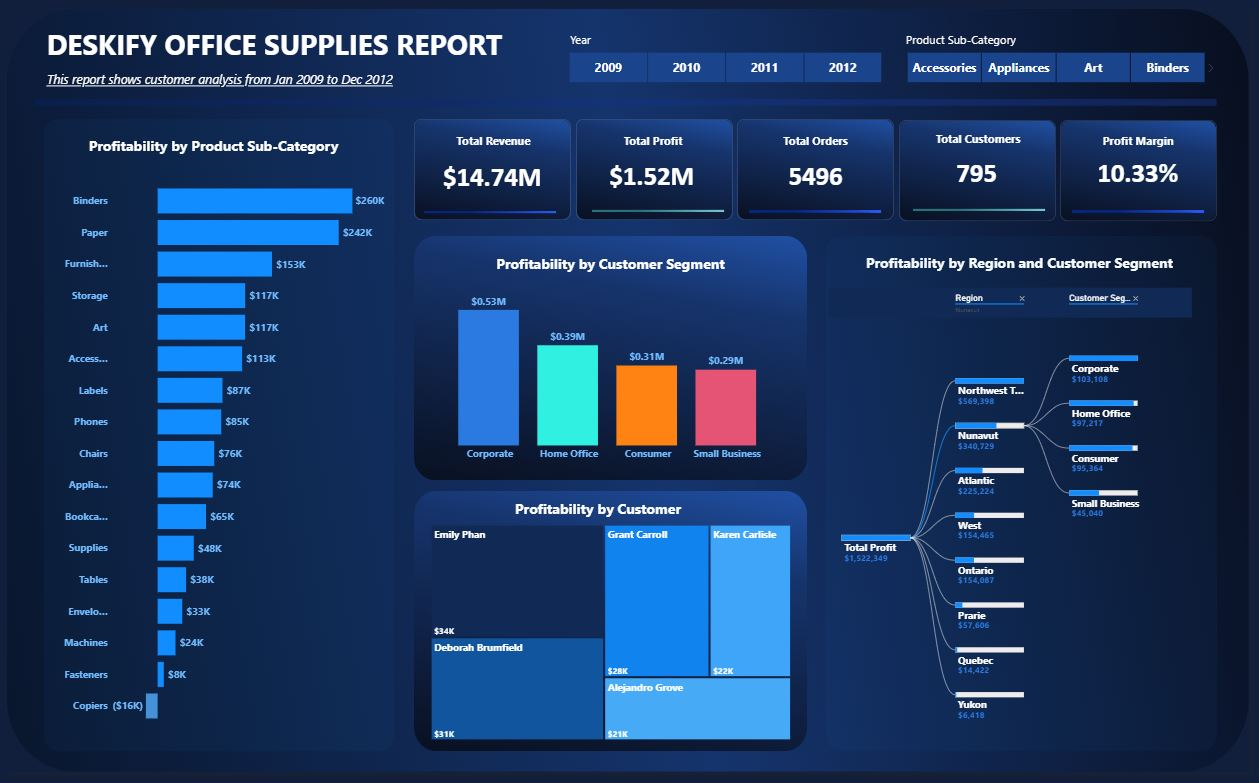

What the dashboard file says about the page in this screenshot:
{"tool":"powerbi","page":{"name":"Customer Analysis","canvas":[2500,1500],"ordinal":1},"visuals":[{"type":"image","box":[96.9,26.6,2359.4,1449.5],"z":0},{"type":"image","box":[869.5,235.1,298.3,191.9],"z":1000},{"type":"image","box":[1177.3,235.1,298.3,191.9],"z":2000},{"type":"image","box":[1483.1,235.1,298.3,191.9],"z":3000},{"type":"image","box":[1791.4,237.5,298.3,191.9],"z":4000},{"type":"image","box":[2097.2,237.5,298.3,191.9],"z":5000},{"type":"image","box":[870.1,457.8,746.6,463.5],"z":7000},{"type":"shape","box":[167.2,235.6,664.9,1200.6],"z":9000},{"type":"textbox","box":[913.8,256.5,214.7,47.5],"z":11000},{"type":"textbox","box":[1263.3,256.5,294.5,47.5],"z":12000},{"type":"textbox","box":[1523.6,256.5,218.5,100.7],"z":13000},{"type":"textbox","box":[1856,252.7,191.9,55.1],"z":14000},{"type":"textbox","box":[2173.3,256.5,321,100.7],"z":15000},{"type":"textbox","box":[167.2,51.3,930.9,87.4],"z":16000},{"type":"textbox","box":[167.2,138.7,930.9,117.8],"z":17000},{"type":"card","fields":{"Values":["Calculated Measures.Total Revenue"]},"box":[908.1,292.6,220.4,98.8],"z":18000},{"type":"card","fields":{"Values":["Calculated Measures.Total Profit"]},"box":[1212,300.2,218.5,77.9],"z":19000},{"type":"card","fields":{"Values":["Calculated Measures.Total Orders"]},"box":[1523.6,281.2,218.5,115.9],"z":20000},{"type":"card","fields":{"Values":["Calculated Measures.Total Customers"]},"box":[1829.4,292.6,218.5,81.7],"z":21000},{"type":"card","fields":{"Values":["Calculated Measures.Profit Margin"]},"box":[2135.3,235.6,218.5,197.6],"z":22000},{"type":"textbox","box":[980.2,486.3,526.2,64.6],"z":28000},{"type":"textbox","box":[1689.4,484.6,663,81.5],"z":29000},{"type":"textbox","box":[224.2,262.2,530,134.9],"z":30000},{"type":"image","box":[870.1,942.2,746.6,493.9],"z":32500},{"type":"textbox","box":[946,951.7,547.1,102.6],"z":32750},{"type":"slicer","fields":{"Values":["CalendarDim.Year"]},"box":[1139.8,102.6,642.1,70.3],"z":33000},{"type":"textbox","box":[1063.8,64.6,245.1,38],"z":34000},{"type":"textbox","box":[1757.2,64.6,304,38],"z":35000},{"type":"slicer","fields":{"Values":["ProductDim.Product Sub-Category"]},"box":[1781.9,102.6,613.6,70.3],"z":36000},{"type":"image","box":[889.1,406.5,250.8,12],"z":37000},{"type":"image","box":[1208.2,376.1,250.8,68.4],"z":38000},{"type":"image","box":[1506.5,404.6,250.8,13.3],"z":39000},{"type":"image","box":[1818,374.2,250.8,68.4],"z":40000},{"type":"image","box":[2120.1,404.6,250.8,13.3],"z":41000},{"type":"image","box":[148.2,197.6,2247.3,13.3],"z":42000},{"type":"treemap","fields":{"Group":["CustomerDim.Customer Name"],"Values":["Calculated Measures.Total Profit"]},"box":[898.6,1003,691.5,416],"z":42001},{"type":"clusteredColumnChart","fields":{"Category":["CustomerDim.Customer Segment"],"Y":["Calculated Measures.Total Profit"]},"box":[889.1,550.9,701,343.8],"z":42002},{"type":"clusteredBarChart","fields":{"Y":["Calculated Measures.Total Profit"],"Category":["ProductDim.Product Sub-Category"]},"box":[188.1,330.5,630.7,1073.3],"z":42003},{"type":"shape","box":[1652.7,457.8,742.8,978.3],"z":42004},{"type":"decompositionTreeVisual","fields":{"Analyze":["Calculated Measures.Total Profit"],"ExplainBy":["LocationDim.Region","CustomerDim.Customer Segment"]},"box":[1652,550.7,700.4,949.3],"z":42005}]}

Visuals, with their boxes on the page's 2500x1500 design canvas (x1, y1, x2, y2). These are canvas units, not pixel positions in the 1259x783 screenshot, which may show the page scaled, cropped or inside an application window:
image: <bbox>97, 27, 2456, 1476</bbox>
image: <bbox>870, 235, 1168, 427</bbox>
image: <bbox>1177, 235, 1476, 427</bbox>
image: <bbox>1483, 235, 1781, 427</bbox>
image: <bbox>1791, 238, 2090, 429</bbox>
image: <bbox>2097, 238, 2396, 429</bbox>
image: <bbox>870, 458, 1617, 921</bbox>
shape: <bbox>167, 236, 832, 1436</bbox>
textbox: <bbox>914, 256, 1128, 304</bbox>
textbox: <bbox>1263, 256, 1558, 304</bbox>
textbox: <bbox>1524, 256, 1742, 357</bbox>
textbox: <bbox>1856, 253, 2048, 308</bbox>
textbox: <bbox>2173, 256, 2494, 357</bbox>
textbox: <bbox>167, 51, 1098, 139</bbox>
textbox: <bbox>167, 139, 1098, 256</bbox>
card - Calculated Measures.Total Revenue: <bbox>908, 293, 1128, 391</bbox>
card - Calculated Measures.Total Profit: <bbox>1212, 300, 1430, 378</bbox>
card - Calculated Measures.Total Orders: <bbox>1524, 281, 1742, 397</bbox>
card - Calculated Measures.Total Customers: <bbox>1829, 293, 2048, 374</bbox>
card - Calculated Measures.Profit Margin: <bbox>2135, 236, 2354, 433</bbox>
textbox: <bbox>980, 486, 1506, 551</bbox>
textbox: <bbox>1689, 485, 2352, 566</bbox>
textbox: <bbox>224, 262, 754, 397</bbox>
image: <bbox>870, 942, 1617, 1436</bbox>
textbox: <bbox>946, 952, 1493, 1054</bbox>
slicer - CalendarDim.Year: <bbox>1140, 103, 1782, 173</bbox>
textbox: <bbox>1064, 65, 1309, 103</bbox>
textbox: <bbox>1757, 65, 2061, 103</bbox>
slicer - ProductDim.Product Sub-Category: <bbox>1782, 103, 2396, 173</bbox>
image: <bbox>889, 406, 1140, 418</bbox>
image: <bbox>1208, 376, 1459, 444</bbox>
image: <bbox>1506, 405, 1757, 418</bbox>
image: <bbox>1818, 374, 2069, 443</bbox>
image: <bbox>2120, 405, 2371, 418</bbox>
image: <bbox>148, 198, 2396, 211</bbox>
treemap - CustomerDim.Customer Name x Calculated Measures.Total Profit: <bbox>899, 1003, 1590, 1419</bbox>
clusteredColumnChart - CustomerDim.Customer Segment x Calculated Measures.Total Profit: <bbox>889, 551, 1590, 895</bbox>
clusteredBarChart - Calculated Measures.Total Profit x ProductDim.Product Sub-Category: <bbox>188, 330, 819, 1404</bbox>
shape: <bbox>1653, 458, 2396, 1436</bbox>
decompositionTreeVisual - Calculated Measures.Total Profit x LocationDim.Region: <bbox>1652, 551, 2352, 1500</bbox>
